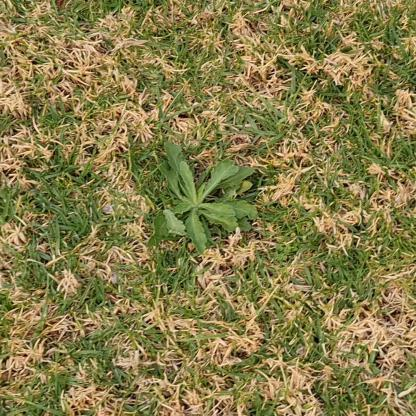Weeds: (145, 141, 262, 258)
